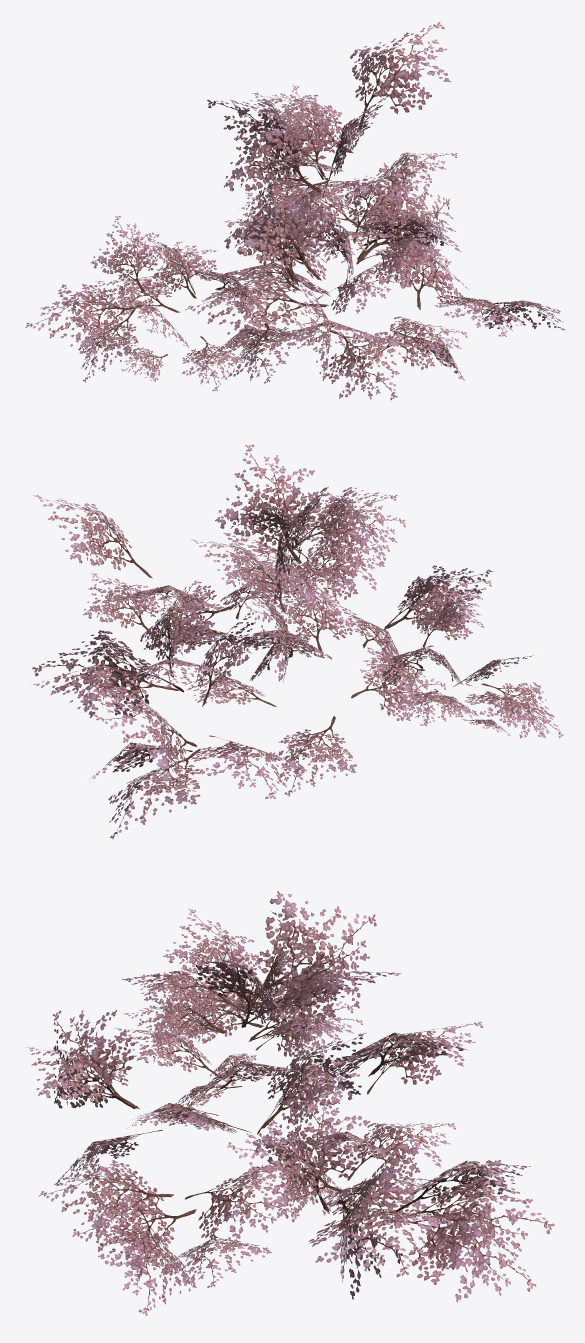
Rendered from Yland1_yz_13 Yland1.FBX.
3 renders of one model, top to bottom at view 1: azimuth 30°, elevation 25°; view 2: azimuth 150°, elevation 25°; view 3: azimuth 270°, elevation 25°, orthographic. The views are drawn at different scales.
Parts seen in each view (by area): view 1: Yland1_yz_13 Yland1; view 2: Yland1_yz_13 Yland1; view 3: Yland1_yz_13 Yland1.
Boxes of the visible parts, x1,y1,x2,y2 form: Yland1_yz_13 Yland1: [25, 22, 565, 400]; Yland1_yz_13 Yland1: [32, 444, 563, 839]; Yland1_yz_13 Yland1: [26, 891, 554, 1315].
Size of the model in its own units: 13.49 by 8.14 by 11.52.
